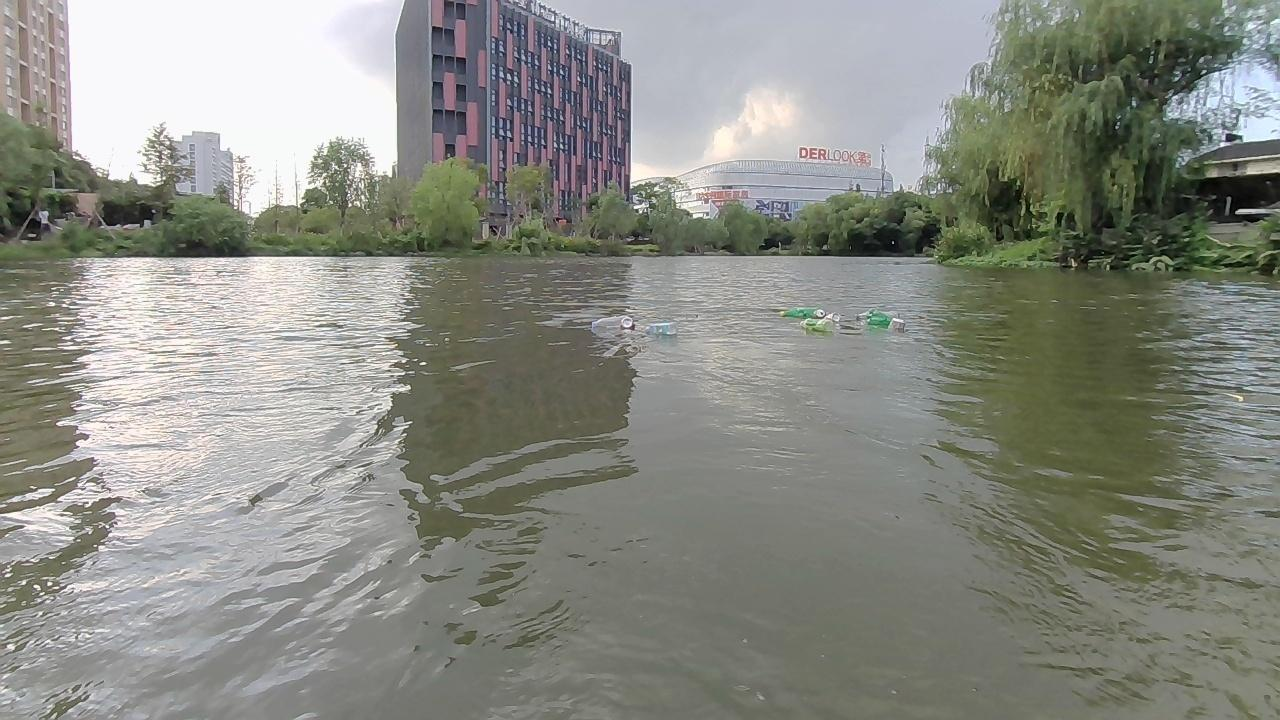bottle: (589, 315, 624, 331), (861, 317, 896, 331), (858, 308, 901, 319), (800, 317, 831, 331), (647, 322, 677, 333), (783, 306, 806, 318), (829, 308, 843, 325), (620, 317, 634, 332), (890, 316, 902, 333), (808, 307, 823, 316)
